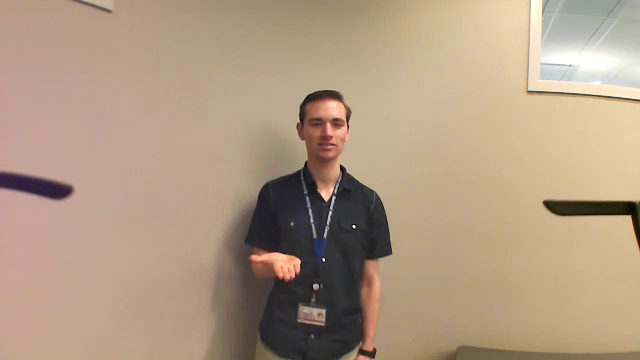land: (244, 245, 308, 287)
